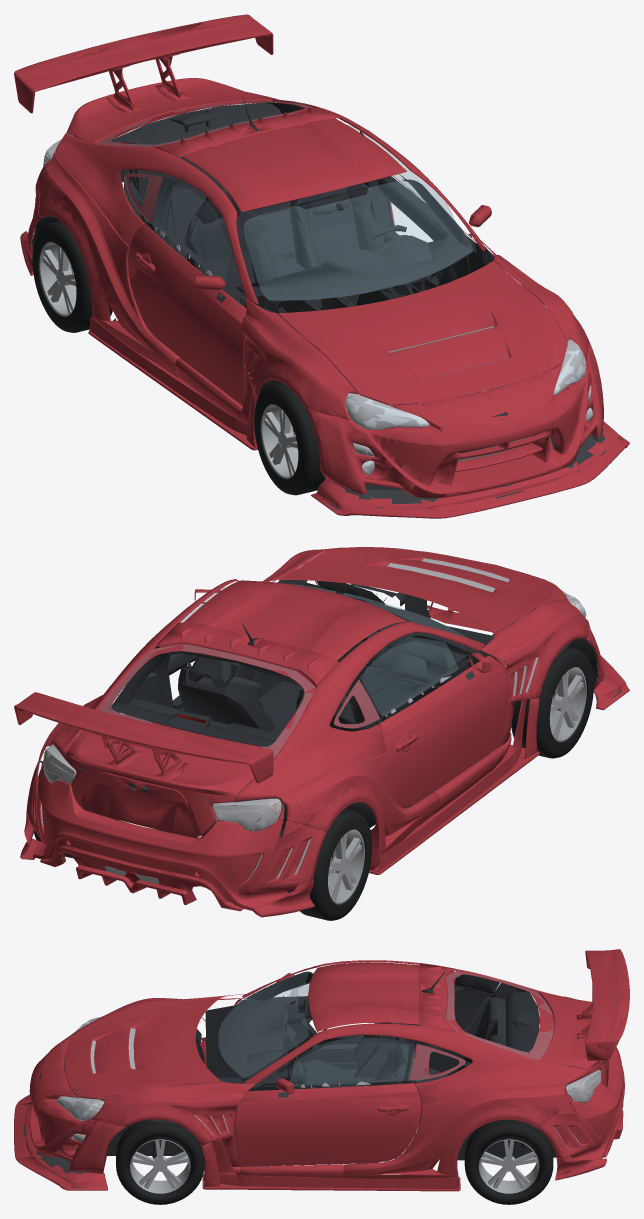
Rendered from subaru-brz.glb.
3 renders of one model, top to bottom at view 1: azimuth 30°, elevation 25°; view 2: azimuth 150°, elevation 25°; view 3: azimuth 270°, elevation 25°, orthographic. The views are drawn at different scales.
Visible parts, largest first — view 1: BRZ_windshield, Object_55, Object_46, Object_25, Object_32, Object_57, Object_36, Object_62, Object_63, ReserveTire, Object_65, Object_31 (+35 smaller); view 2: Object_46, Object_25, Object_57, Object_32, ReserveTire, Object_55, Object_34, Object_44, Object_27, Object_35, Object_64, Object_26 (+38 smaller); view 3: Object_55, ReserveTire, Object_25, Object_47, Object_46, BRZ_windshield, Object_57, Object_38, Window_Object_93_2809, Object_65, Object_32, Object_62 (+38 smaller).
Boxes of the visible parts, left/top/right/bottom form: BRZ_windshield: left=243, top=180, right=472, bottom=300; Object_55: left=136, top=114, right=603, bottom=493; Object_46: left=15, top=14, right=406, bottom=399; Object_25: left=99, top=102, right=628, bottom=518; Object_32: left=21, top=178, right=564, bottom=493; Object_57: left=66, top=78, right=629, bottom=518; Object_36: left=68, top=78, right=629, bottom=516; Object_62: left=117, top=105, right=501, bottom=393; Object_63: left=124, top=110, right=427, bottom=316; ReserveTire: left=32, top=220, right=325, bottom=495; Object_65: left=126, top=102, right=491, bottom=400; Object_31: left=249, top=316, right=603, bottom=496; Object_46: left=14, top=581, right=508, bottom=902; Object_25: left=98, top=585, right=628, bottom=806; Object_57: left=67, top=580, right=629, bottom=833; Object_32: left=21, top=547, right=564, bottom=915; ReserveTire: left=34, top=582, right=593, bottom=920; Object_55: left=21, top=547, right=562, bottom=858; Object_34: left=27, top=548, right=567, bottom=917; Object_44: left=20, top=599, right=587, bottom=917; Object_27: left=14, top=589, right=370, bottom=910; Object_35: left=33, top=610, right=625, bottom=913; Object_64: left=108, top=599, right=470, bottom=791; Object_26: left=66, top=602, right=603, bottom=834; Object_55: left=30, top=987, right=590, bottom=1173; ReserveTire: left=116, top=1028, right=553, bottom=1204; Object_25: left=14, top=962, right=554, bottom=1189; Object_47: left=234, top=962, right=587, bottom=1177; Object_46: left=244, top=949, right=629, bottom=1165; BRZ_windshield: left=218, top=972, right=308, bottom=1077; Object_57: left=18, top=963, right=608, bottom=1190; Object_38: left=201, top=995, right=570, bottom=1188; Window_Object_93_2809: left=290, top=1038, right=413, bottom=1085; Object_65: left=218, top=977, right=538, bottom=1113; Object_32: left=34, top=1001, right=622, bottom=1178; Object_62: left=207, top=977, right=539, bottom=1166.
Bounding box in the file's own units: 196 × 144 × 447.
